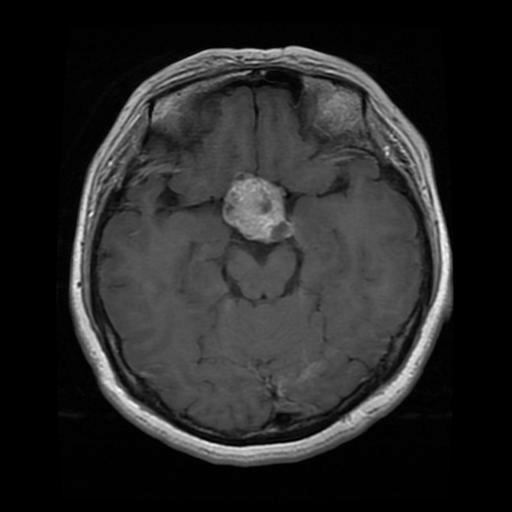Tumour-Pituitary: (222, 174, 299, 246)
